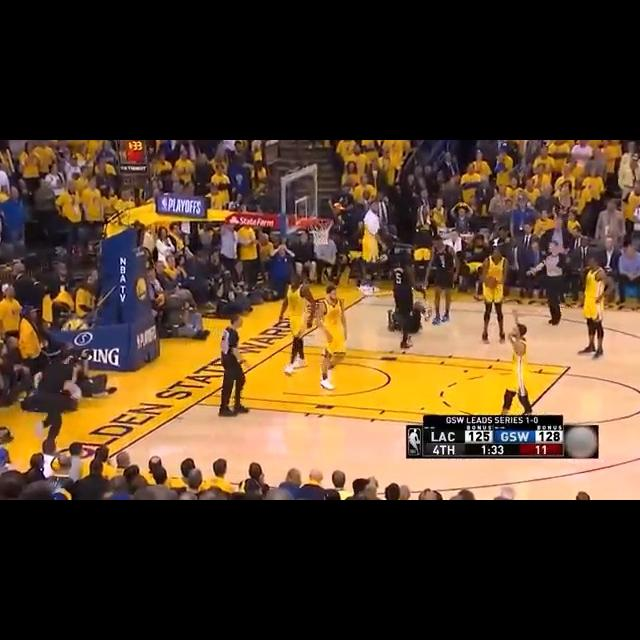basketball: (485, 277, 497, 288)
hoop: (309, 217, 336, 245)
